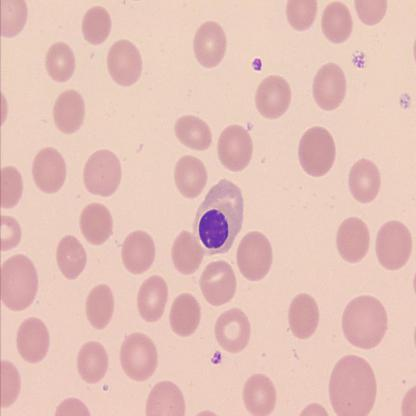NRC: (192, 177, 245, 256)
